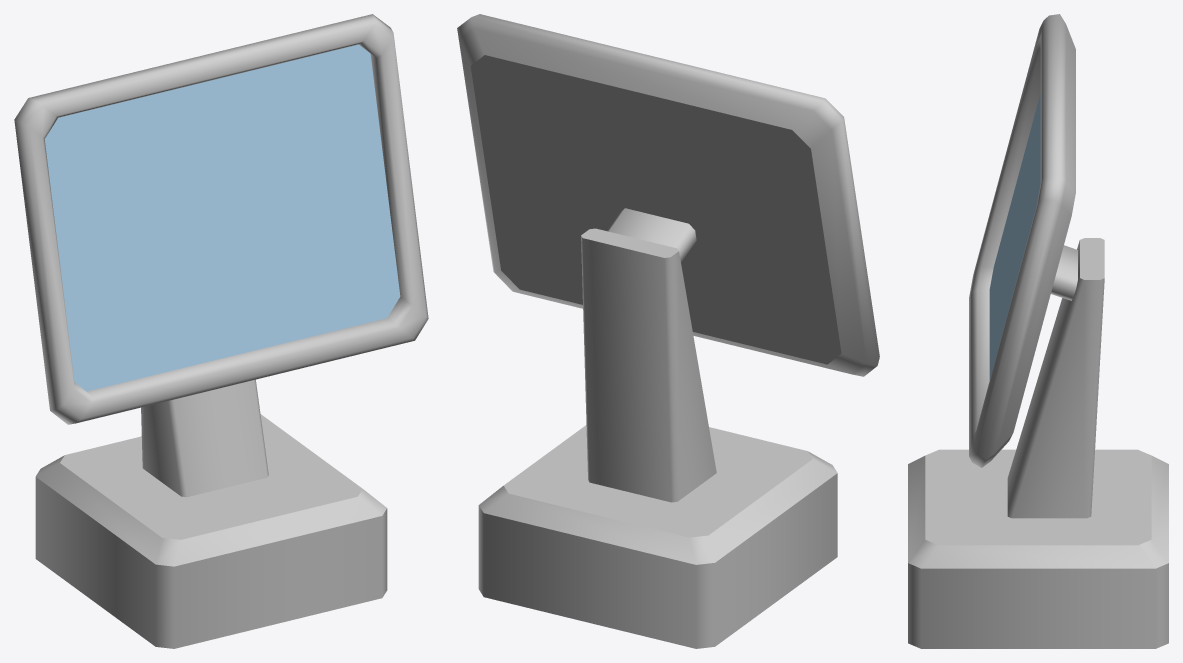
Rendered from Order-System.fbx.
The picture shows the model from 3 angles, left to right: view 1: azimuth 30°, elevation 25°; view 2: azimuth 150°, elevation 25°; view 3: azimuth 270°, elevation 25°; orthographic projection. The views are drawn at different scales.
Visible parts, largest first — view 1: Order-System; view 2: Order-System; view 3: Order-System.
Part boxes in pixels (box(x1,y1,x2,y2)): Order-System: box(14, 14, 428, 648); Order-System: box(457, 14, 879, 648); Order-System: box(908, 14, 1168, 648).
Bounding box in the file's own units: 0.4064 × 0.5267 × 0.25.
